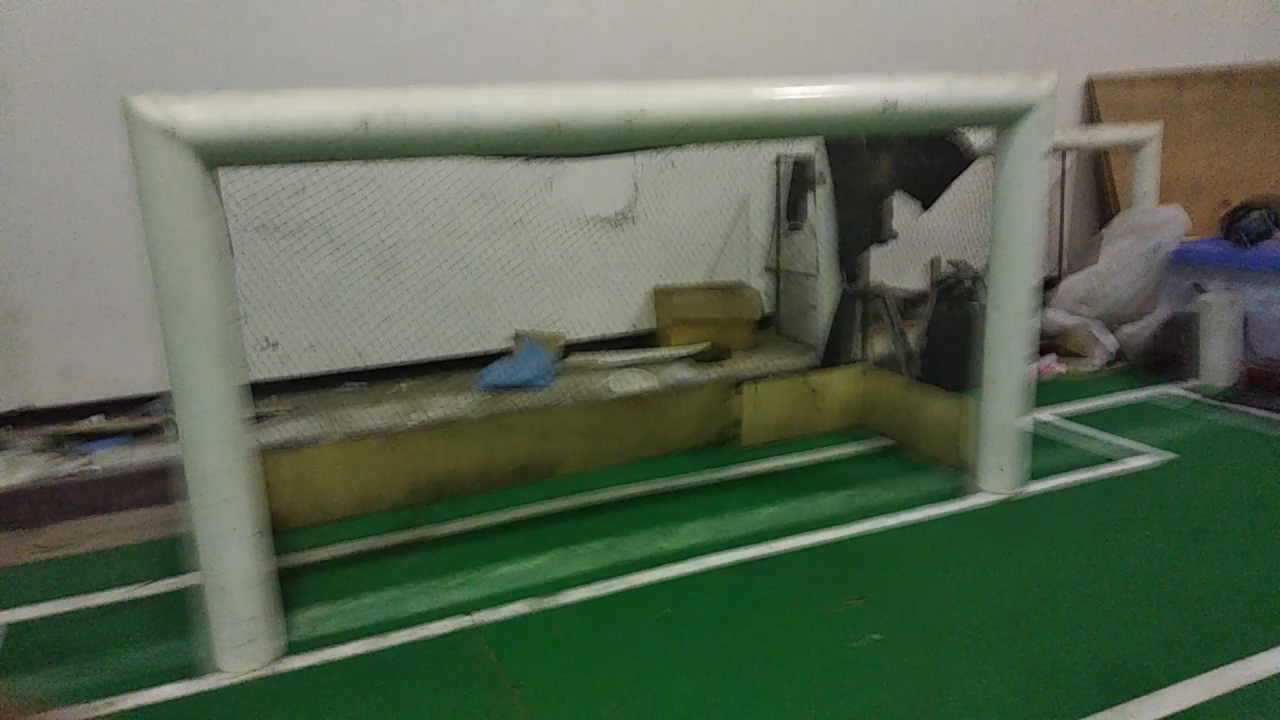gawang: (109, 61, 1081, 686)
